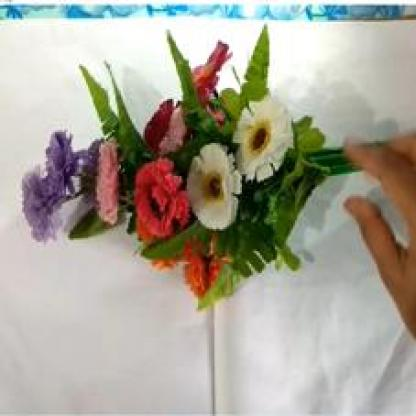flower: (20, 31, 346, 360)
